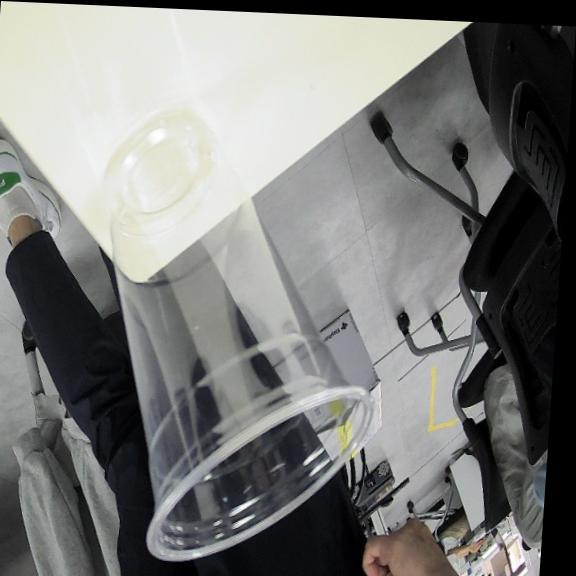Plastik: (102, 113, 370, 559)
